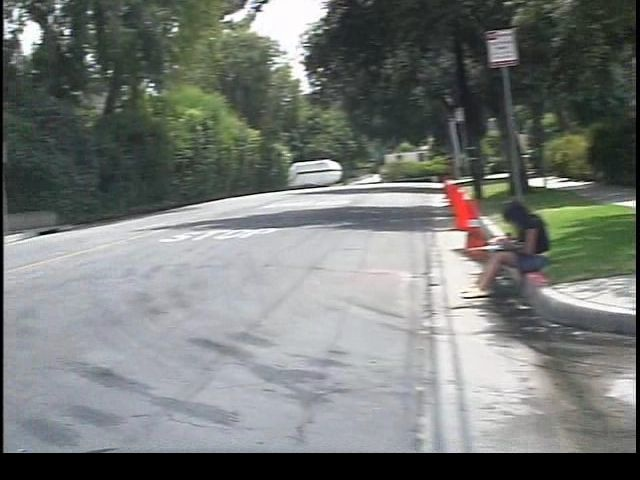person: (441, 195, 538, 301)
